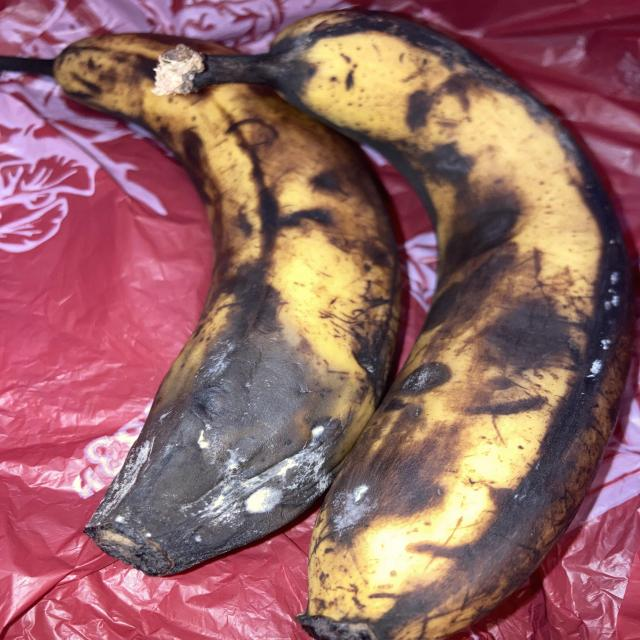banana_peel: (15, 13, 628, 625)
